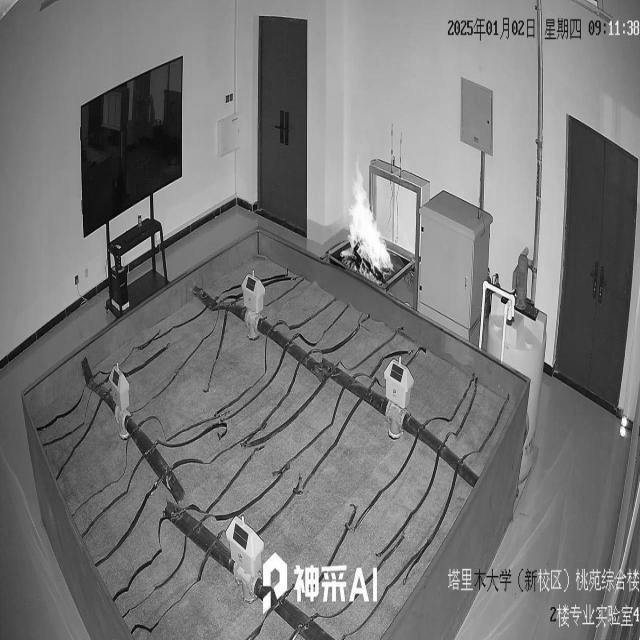smoke: (344, 160, 394, 278)
